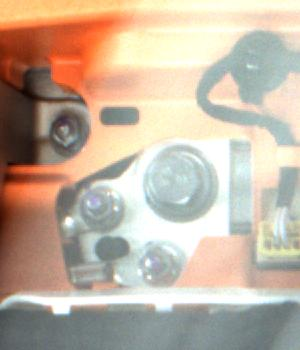nut_b: (141, 148, 218, 227)
